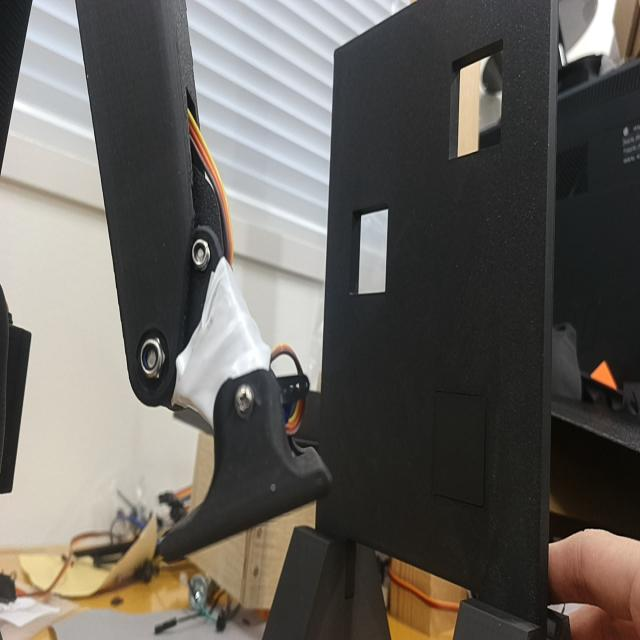Obstacle: (449, 42, 503, 158), (351, 203, 389, 296)
Wall: (315, 0, 552, 619)
